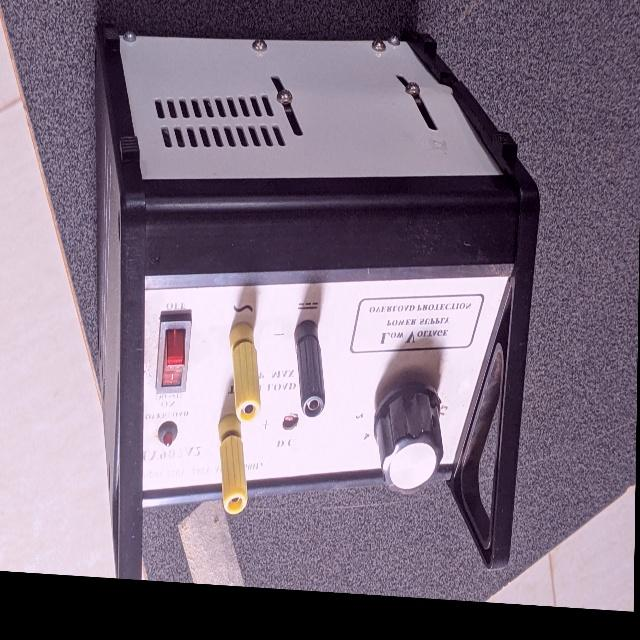AC-AD Regulated Power Supply: (96, 1, 546, 578)
